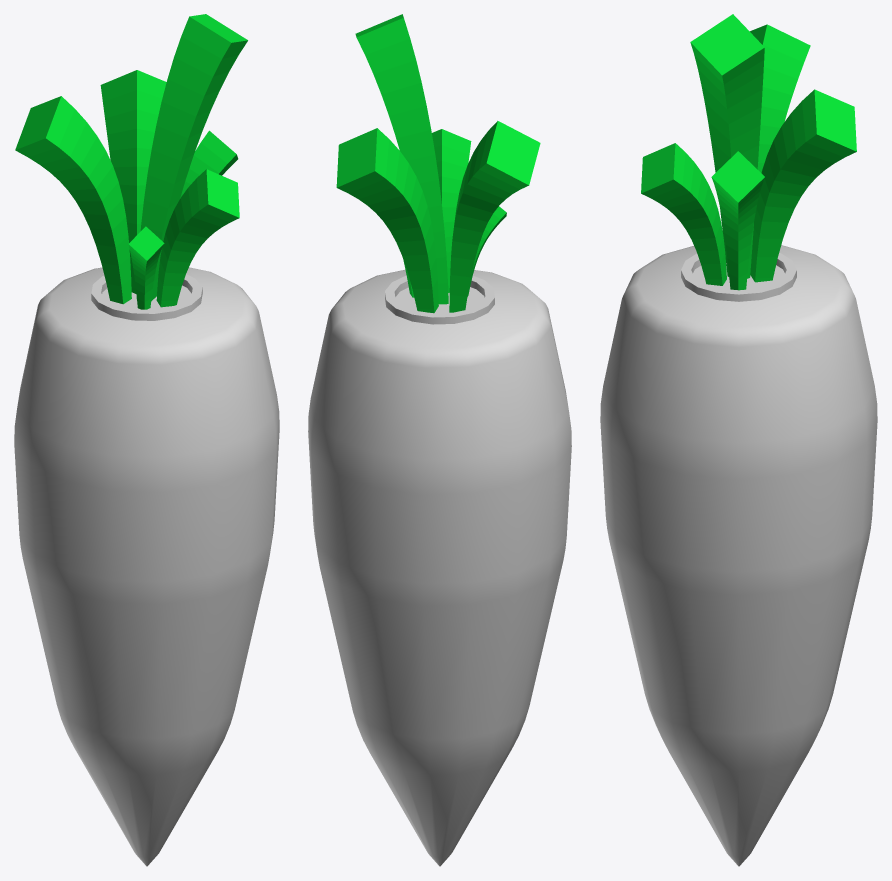
Rendered from Carrot.fbx.
3 views of the same model, side by side, from view 1: azimuth 30°, elevation 25°; view 2: azimuth 150°, elevation 25°; view 3: azimuth 270°, elevation 25° (orthographic). The views are drawn at different scales.
Parts seen in each view (by area): view 1: Body, Stem6, Stem5, Stem4, Stem3, Stem1, Stem2; view 2: Body, Stem4, Stem6, Stem5, Stem3, Stem1; view 3: Body, Stem4, Stem6, Stem3, Stem2, Stem5.
Boxes of the visible parts, x1,y1,x2,y2 form: Body: (14,267,279,866); Stem6: (136,14,247,300); Stem5: (15,96,131,304); Stem4: (100,70,166,293); Stem3: (156,169,239,307); Stem1: (128,226,164,309); Stem2: (180,130,238,198); Body: (308,270,571,866); Stem4: (336,128,438,313); Stem6: (355,14,448,304); Stem5: (449,121,540,312); Stem3: (432,129,471,292); Stem1: (467,206,506,296); Body: (600,245,877,866); Stem4: (750,89,856,282); Stem6: (690,14,764,278); Stem3: (641,143,726,285); Stem2: (711,151,764,290); Stem5: (750,24,810,172).
Bounding box in the file's own units: 2.42 × 8.42 × 2.42.
